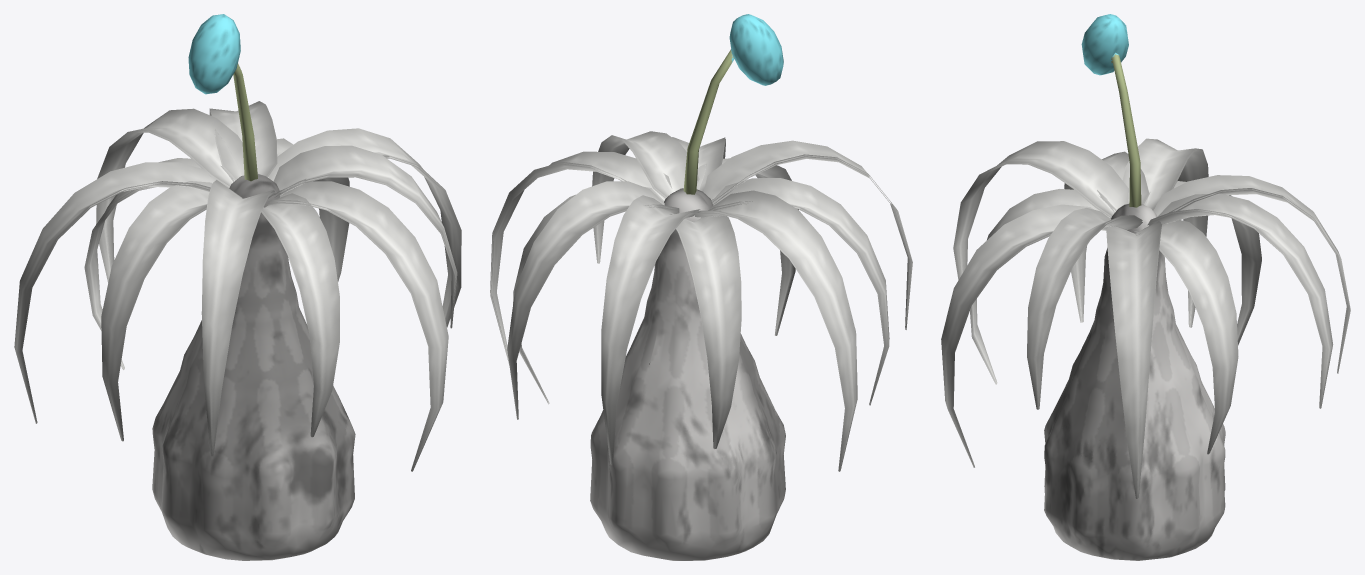
The model's file is LeavedMediumB.fbx.
The picture shows the model from 3 angles, left to right: view 1: azimuth 30°, elevation 25°; view 2: azimuth 150°, elevation 25°; view 3: azimuth 270°, elevation 25°; orthographic projection. The views are drawn at different scales.
Parts seen in each view (by area): view 1: LeavedMediumB; view 2: LeavedMediumB; view 3: LeavedMediumB.
Boxes of the visible parts, <box> form: LeavedMediumB: <box>14,14,461,560</box>; LeavedMediumB: <box>490,14,912,560</box>; LeavedMediumB: <box>941,14,1350,560</box>.
Size of the model in its own units: 0.804 by 1 by 0.7568.
Materials: 2 (2 with a texture image).
